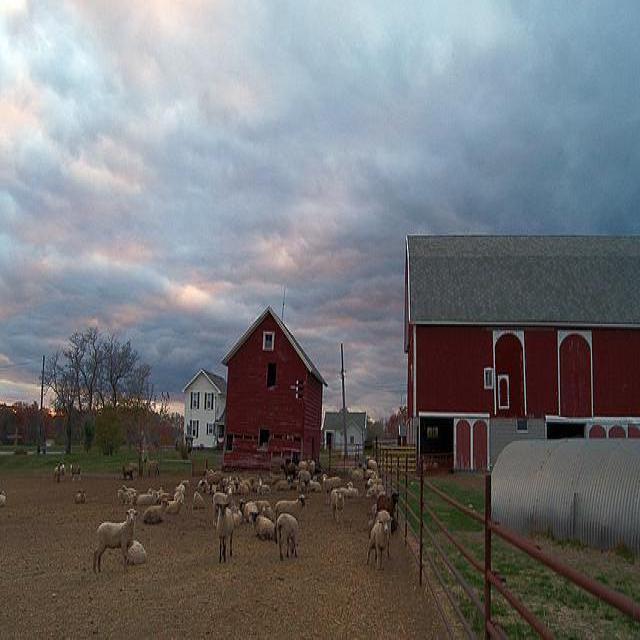Sheep: (53, 425, 419, 599), (93, 508, 140, 574)
